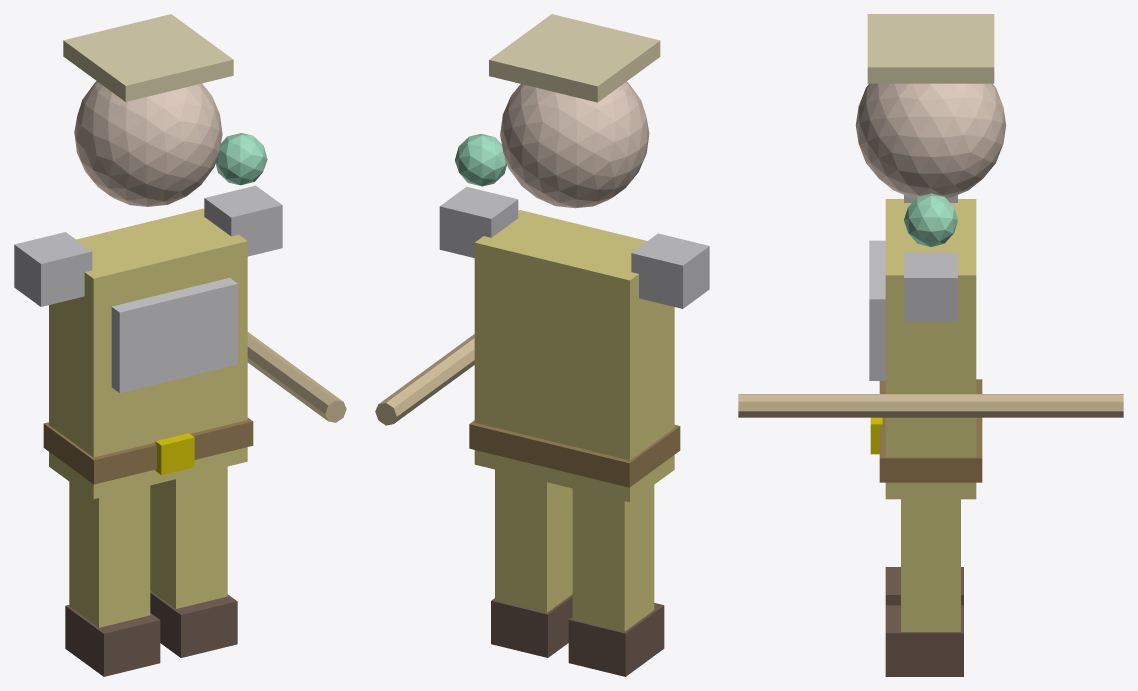
The model's file is support_f.glb.
3 renders of one model, left to right at view 1: azimuth 30°, elevation 25°; view 2: azimuth 150°, elevation 25°; view 3: azimuth 270°, elevation 25°, orthographic.
Visible parts, largest first — view 1: geometry_0; view 2: geometry_0; view 3: geometry_0.
Part boxes in pixels (x1=…): geometry_0: x1=14, y1=14, x2=346, y2=676; geometry_0: x1=375, y1=14, x2=709, y2=676; geometry_0: x1=738, y1=14, x2=1123, y2=676.
Size of the model in its own units: 0.94 by 2.21 by 1.28.
